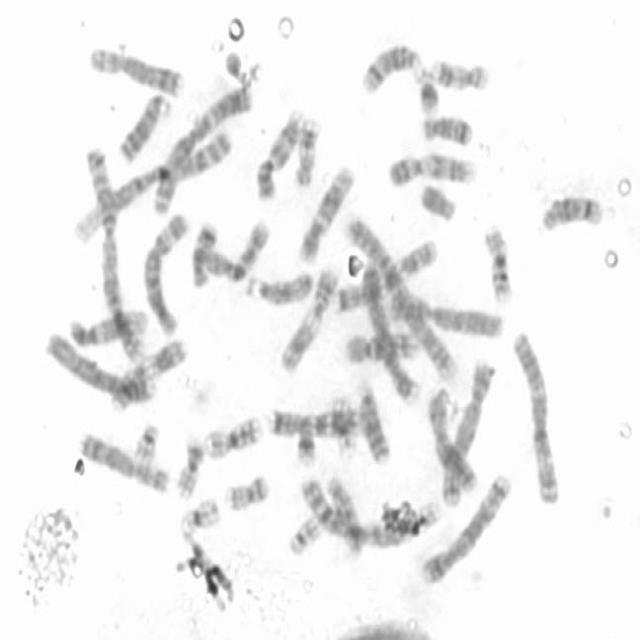A1: (68, 127, 235, 251), (298, 478, 446, 554)
A2: (344, 214, 460, 385), (83, 145, 149, 368)
A3: (150, 85, 256, 218), (513, 330, 561, 508)
B4: (360, 260, 426, 407), (42, 331, 159, 407)
B5: (416, 471, 514, 588), (438, 358, 496, 510)
C10: (202, 218, 272, 286), (344, 331, 422, 367)
C11: (278, 263, 340, 376), (110, 338, 188, 415)
C12: (294, 167, 358, 268), (67, 306, 149, 350)
C6: (140, 209, 192, 339), (385, 288, 505, 342)
C7: (333, 239, 438, 317), (266, 404, 362, 439)
C8: (79, 430, 171, 495), (86, 43, 186, 99)
C9: (253, 106, 307, 205), (386, 150, 481, 190)
D13: (115, 92, 171, 167), (355, 379, 393, 466)
D14: (358, 41, 426, 98), (540, 194, 606, 234)
D15: (324, 473, 365, 558), (242, 267, 315, 308)
E16: (202, 412, 262, 462), (482, 228, 515, 308)
E17: (429, 56, 492, 92), (293, 118, 323, 187)
E18: (189, 220, 219, 292), (421, 114, 475, 149)
F19: (329, 395, 363, 461), (179, 494, 222, 546)
F20: (174, 433, 204, 499), (223, 473, 270, 514)
G21: (416, 69, 442, 119), (294, 424, 320, 470)
G22: (287, 514, 325, 557), (130, 420, 161, 469)
X: (427, 391, 481, 494)
Y: (420, 183, 459, 225)
